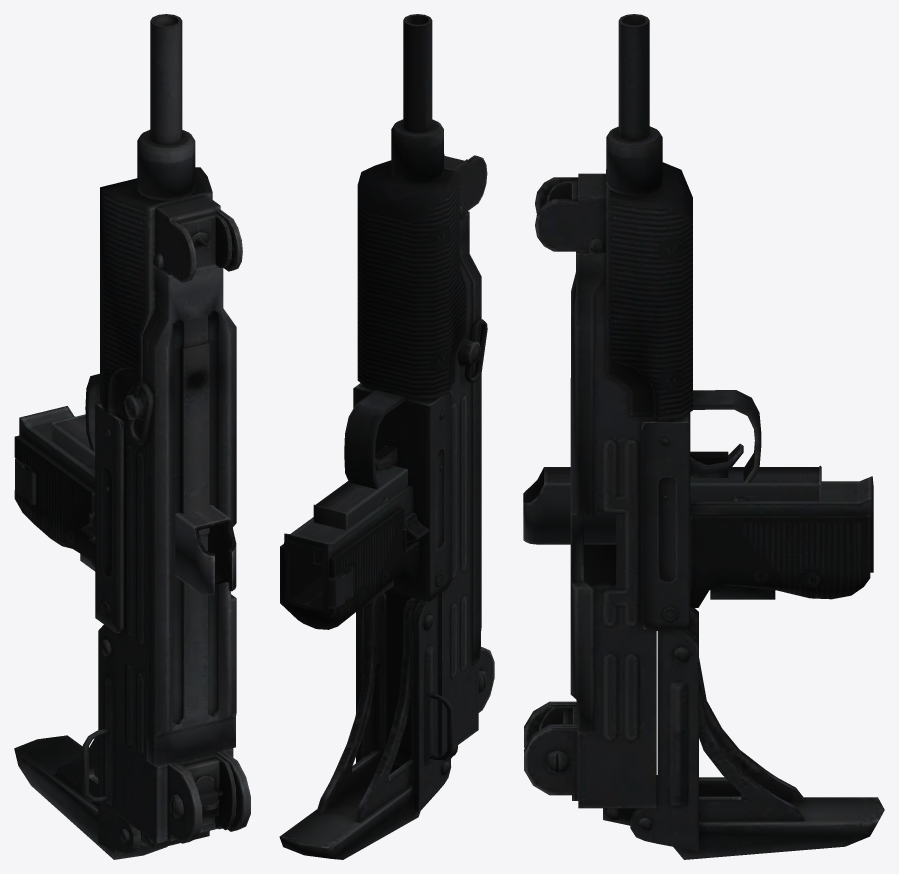
Rendered from IMI_Uzi9.obj.
3 renders of one model, left to right at view 1: azimuth 30°, elevation 25°; view 2: azimuth 150°, elevation 25°; view 3: azimuth 270°, elevation 25°, orthographic. The views are drawn at different scales.
Parts seen in each view (by area): view 1: Model_Uzi_3, Model_Magazine01; view 2: Model_Uzi_3, Model_Magazine01; view 3: Model_Uzi_3, Model_Magazine01.
Part boxes in pixels (x1=…): Model_Uzi_3: x1=14, y1=14, x2=250, y2=859; Model_Magazine01: x1=51, y1=414, x2=236, y2=595; Model_Uzi_3: x1=279, y1=14, x2=494, y2=859; Model_Magazine01: x1=313, y1=466, x2=407, y2=565; Model_Uzi_3: x1=524, y1=14, x2=884, y2=859; Model_Magazine01: x1=523, y1=465, x2=821, y2=544.
Size of the model in its own units: 0.0646 by 0.481 by 0.1907.
Materials: 1 (1 with a texture image).
